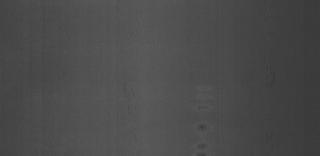water spot: (194, 82, 216, 152)
